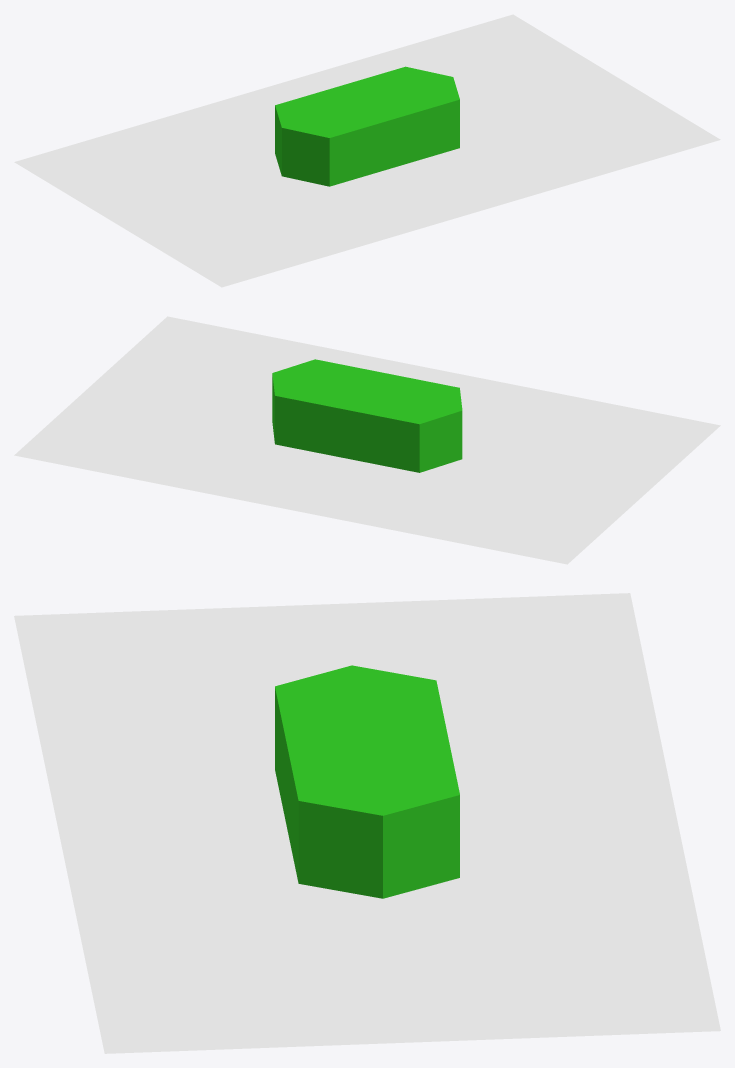
The model's file is NormalContent.fbx.
The picture shows the model from 3 angles, top to bottom: view 1: azimuth 30°, elevation 25°; view 2: azimuth 150°, elevation 25°; view 3: azimuth 270°, elevation 25°; orthographic projection. The views are drawn at different scales.
Parts seen in each view (by area): view 1: Shadow, Model; view 2: Shadow, Model; view 3: Shadow, Model.
Boxes of the visible parts, x1,y1,x2,y2 form: Shadow: (14, 14, 720, 287); Model: (275, 66, 459, 186); Shadow: (14, 316, 720, 564); Model: (272, 359, 462, 472); Shadow: (14, 593, 720, 1053); Model: (275, 665, 459, 898).
Bounding box in the file's own units: 3.59 × 0.308 × 2.33.
